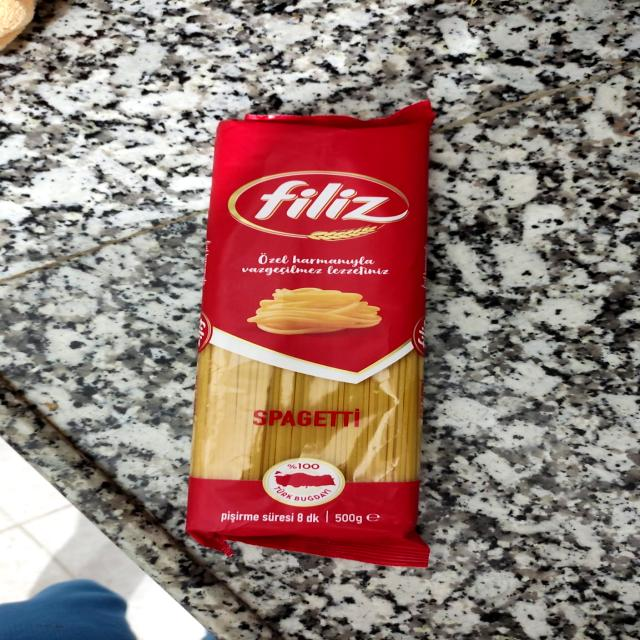spaghetti: (183, 114, 442, 540)
